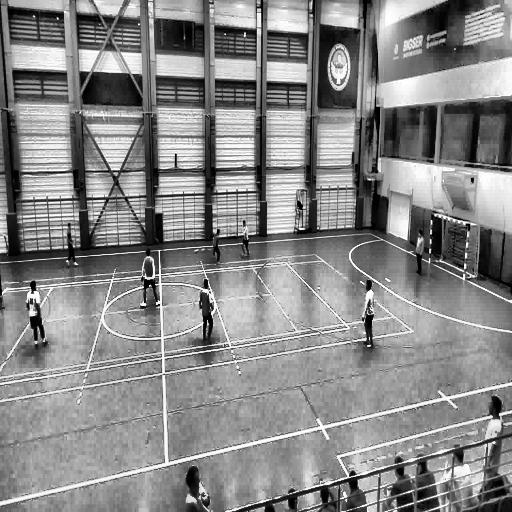ball: (193, 248, 200, 255)
player: (480, 395, 504, 485), (440, 444, 473, 508), (411, 454, 439, 512), (381, 456, 411, 510), (26, 281, 47, 349), (140, 248, 162, 308), (184, 464, 210, 512), (341, 469, 367, 512), (200, 277, 215, 343), (361, 279, 374, 348), (65, 222, 77, 263), (414, 229, 424, 274), (241, 218, 251, 258), (212, 228, 221, 264)
